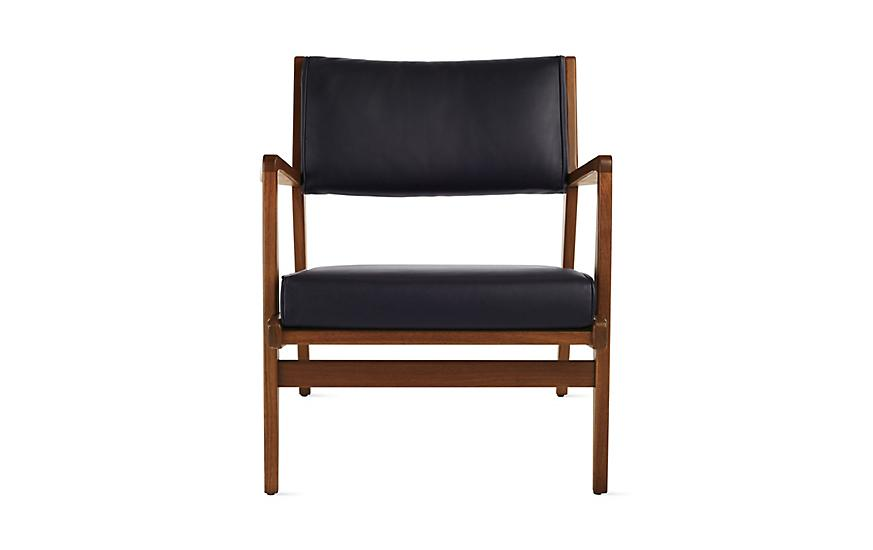chair: (226, 39, 694, 535)
